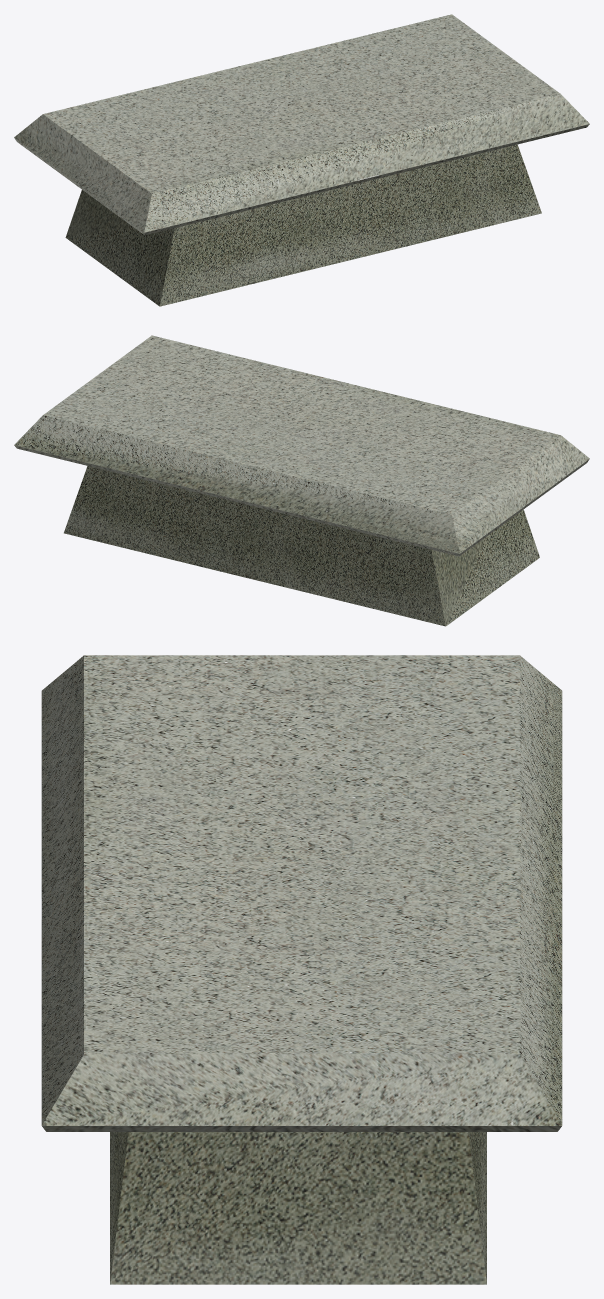
File: bench_02.fbx
3 renders of one model, top to bottom at view 1: azimuth 30°, elevation 25°; view 2: azimuth 150°, elevation 25°; view 3: azimuth 270°, elevation 25°, orthographic. The views are drawn at different scales.
Visible parts, largest first — view 1: pCube5; view 2: pCube5; view 3: pCube5.
Boxes of the visible parts, x1,y1,x2,y2 form: pCube5: (14, 14, 589, 306); pCube5: (14, 335, 589, 626); pCube5: (41, 655, 562, 1284).
Bounding box in the file's own units: 212 × 55.1 × 107.
